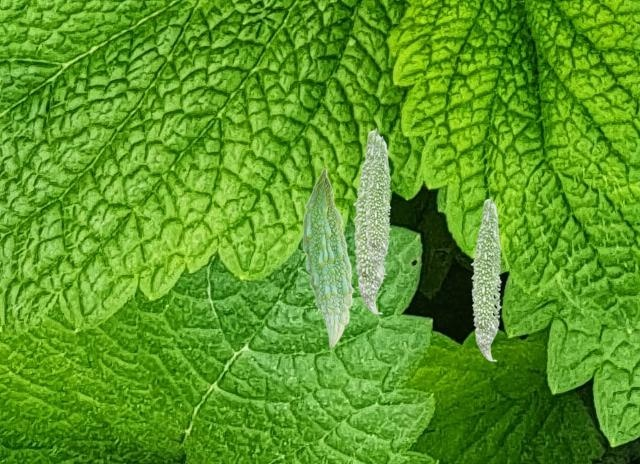ampalaya: (302, 167, 354, 349), (352, 127, 389, 314), (470, 196, 502, 361), (364, 135, 392, 275)
